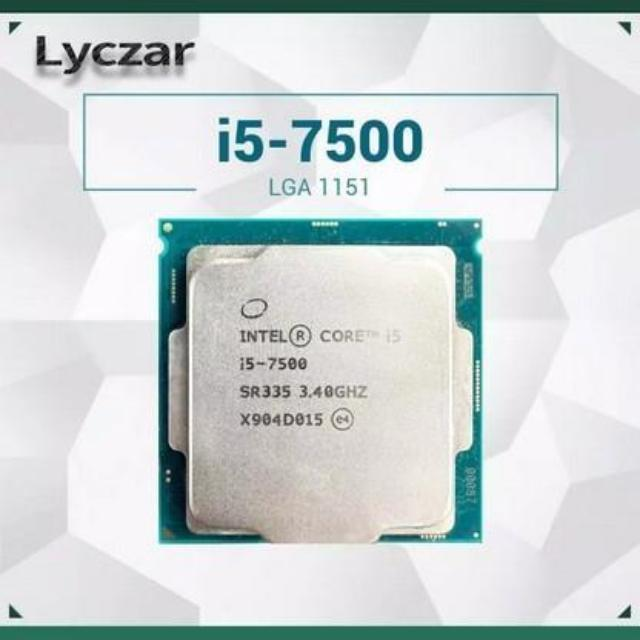CPU: (157, 214, 480, 542)
